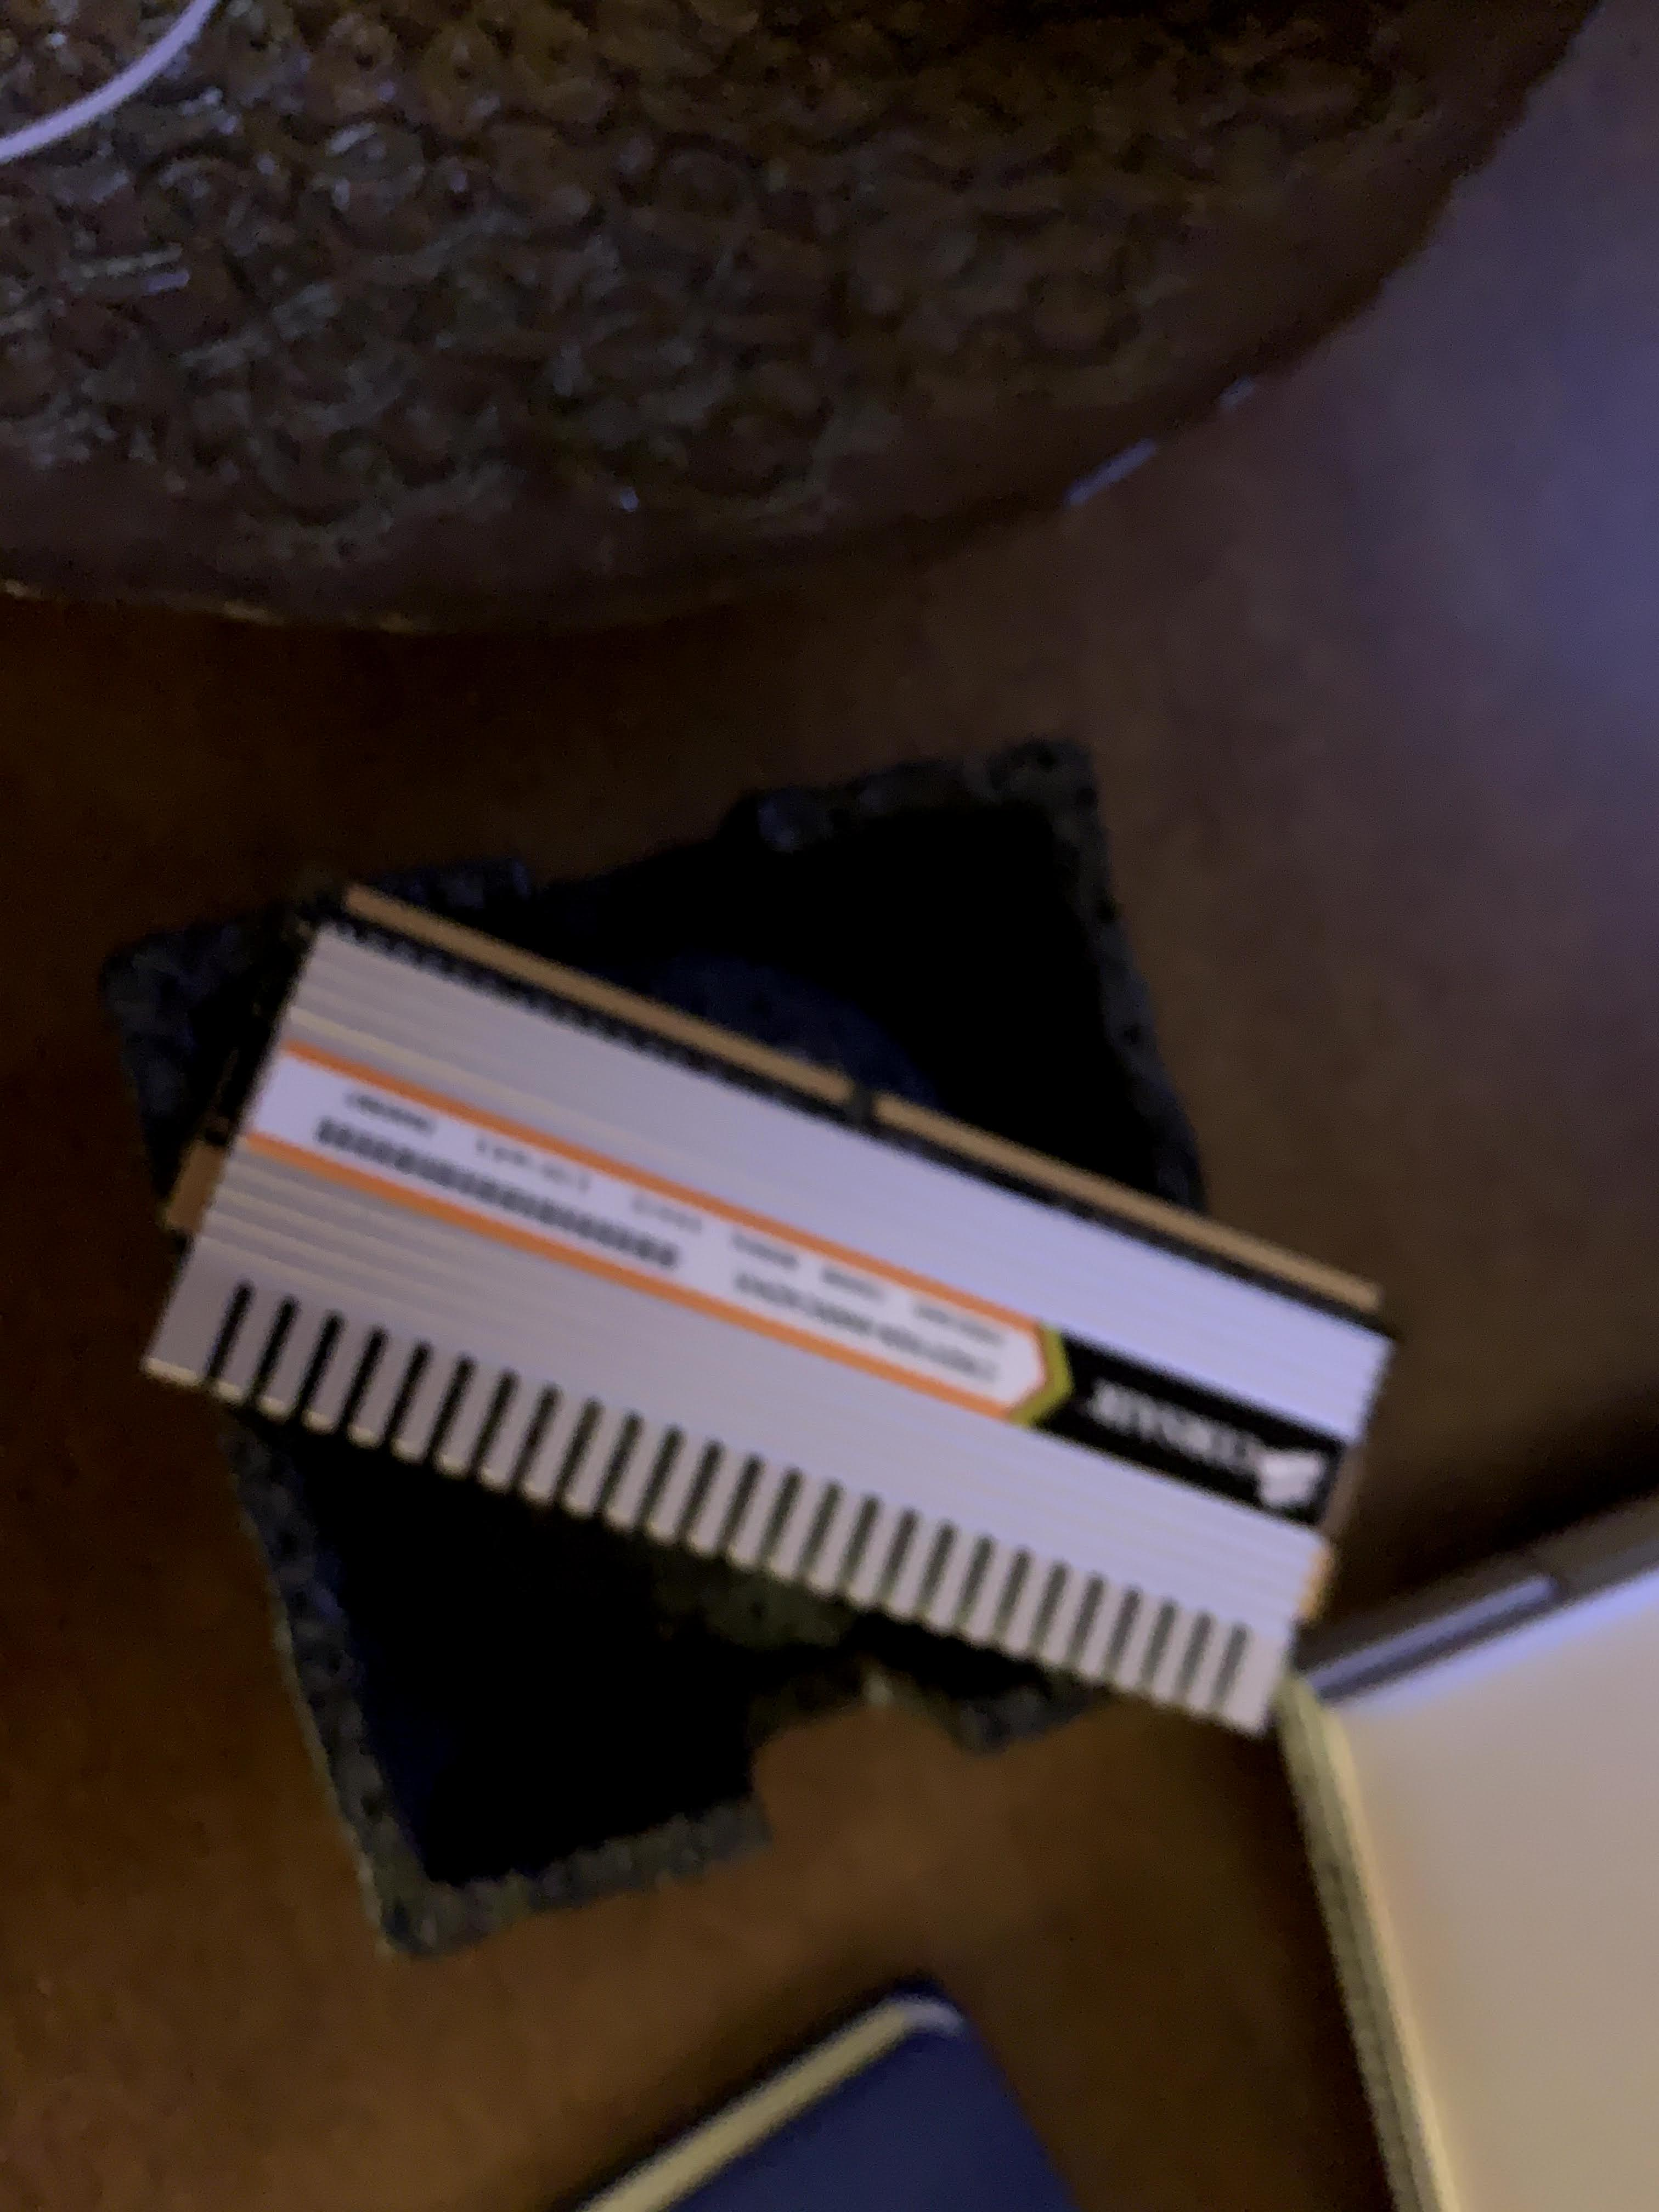Space-debris-medium: (117, 852, 1403, 1743)
